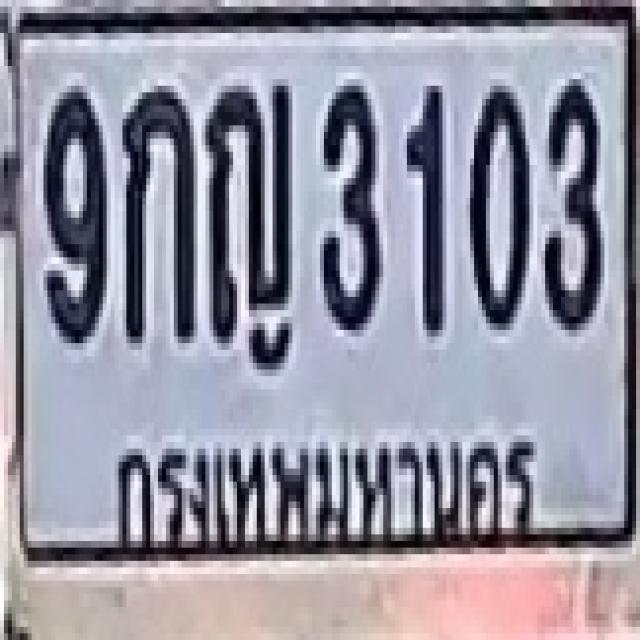0: (466, 79, 530, 323)
1: (403, 83, 442, 333)
3: (541, 79, 601, 330), (316, 79, 375, 323)
9: (40, 86, 102, 336)
A01: (120, 79, 192, 337)
A13: (205, 76, 288, 333)
BKK: (111, 430, 543, 551)
